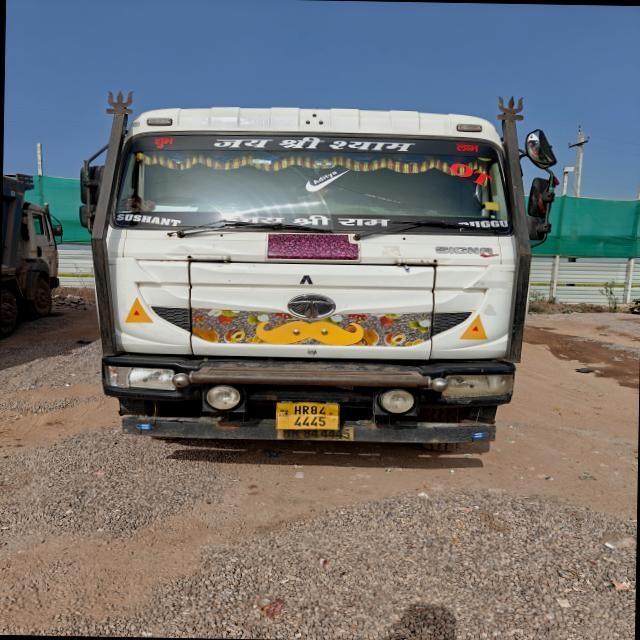license_plate: (277, 403, 339, 430), (277, 428, 353, 441)
